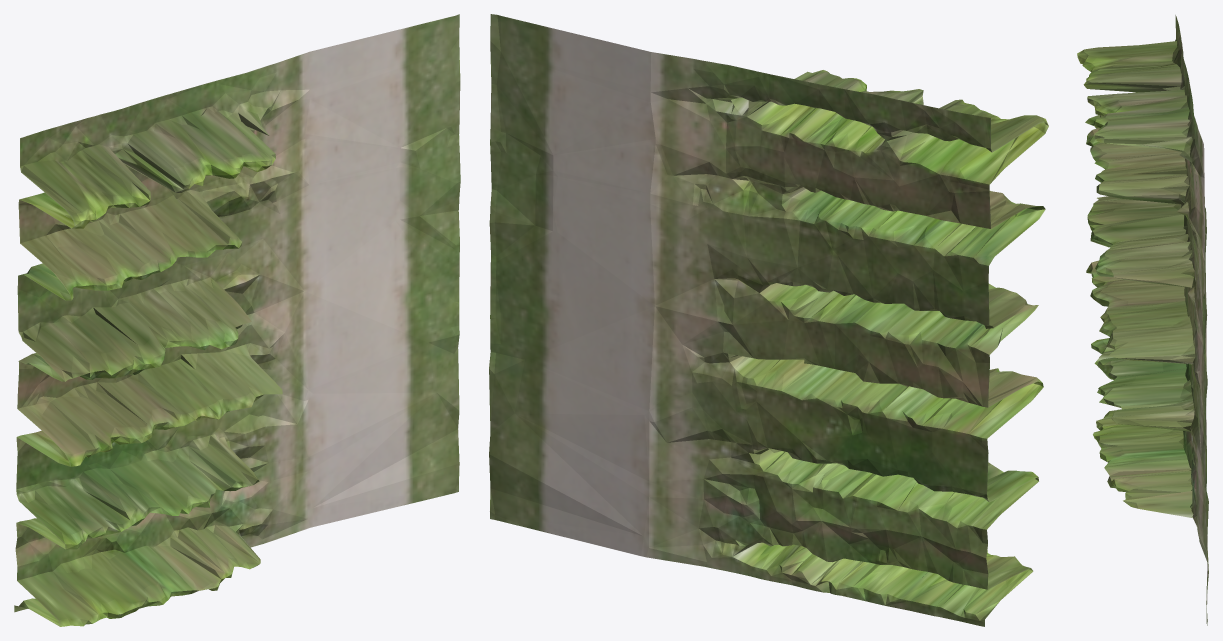
Rendered from map_210_80.obj.
3 views of the same model, side by side, from view 1: azimuth 30°, elevation 25°; view 2: azimuth 150°, elevation 25°; view 3: azimuth 270°, elevation 25° (orthographic). The views are drawn at different scales.
Parts seen in each view (by area): view 1: grp1; view 2: grp1; view 3: grp1.
Boxes of the visible parts, <box> form: grp1: <box>14,14,460,626</box>; grp1: <box>489,14,1048,626</box>; grp1: <box>1077,15,1208,625</box>.
Bounding box in the file's own units: 10 × 10 × 2.86.
1 material, 1 textured.
